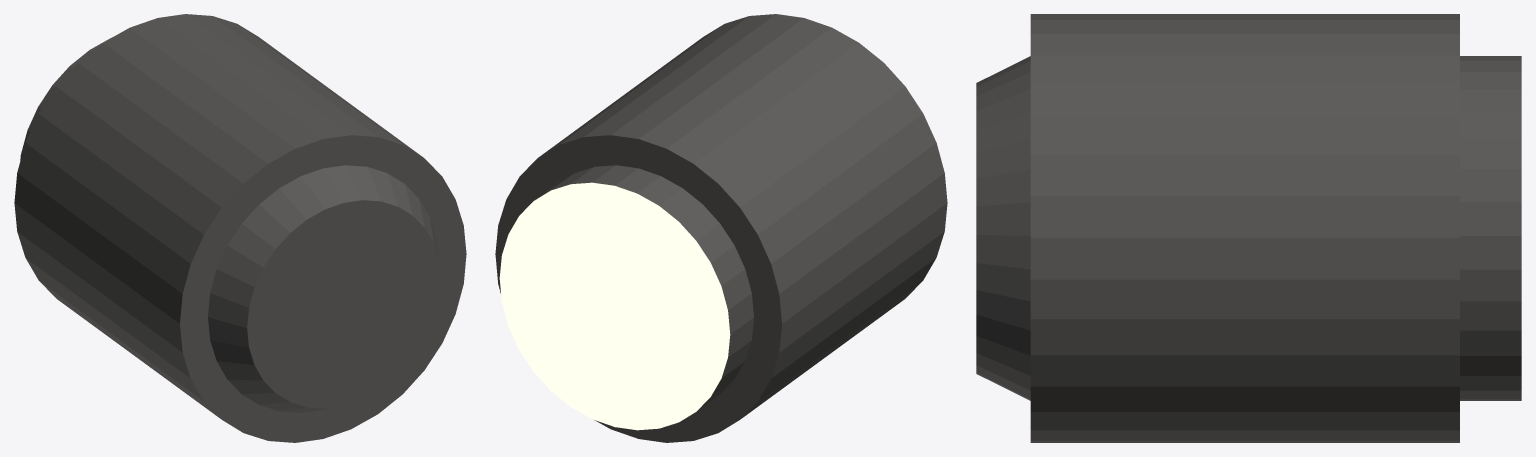
The model's file is CommonLamp_003.glb.
3 renders of one model, left to right at view 1: azimuth 30°, elevation 25°; view 2: azimuth 150°, elevation 25°; view 3: azimuth 270°, elevation 25°, orthographic. The views are drawn at different scales.
Parts seen in each view (by area): view 1: CommonLamp; view 2: CommonLamp; view 3: CommonLamp.
Part boxes in pixels (x1,y1,x2,y2): CommonLamp: (14, 14, 466, 442); CommonLamp: (495, 14, 947, 442); CommonLamp: (976, 14, 1521, 442).
Bounding box in the file's own units: 0.4197 × 0.4197 × 0.5333.
